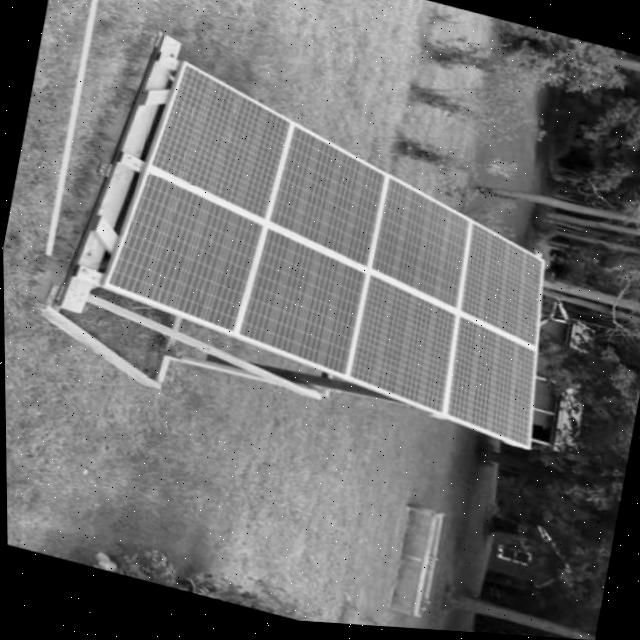Normal Solar Panel: (97, 55, 586, 451)
